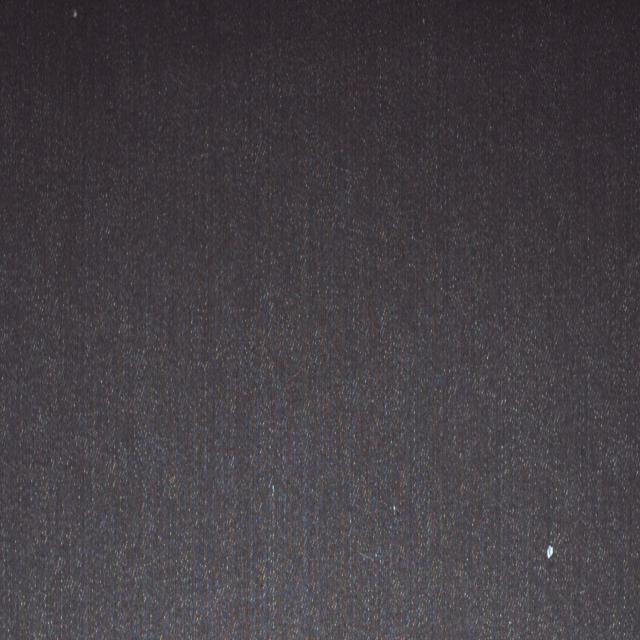Knot: (548, 544, 557, 559)
